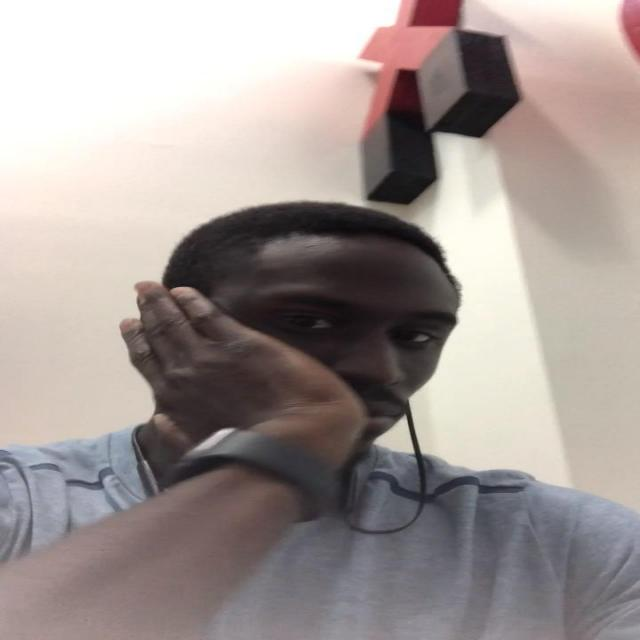face: (176, 252, 463, 448)
